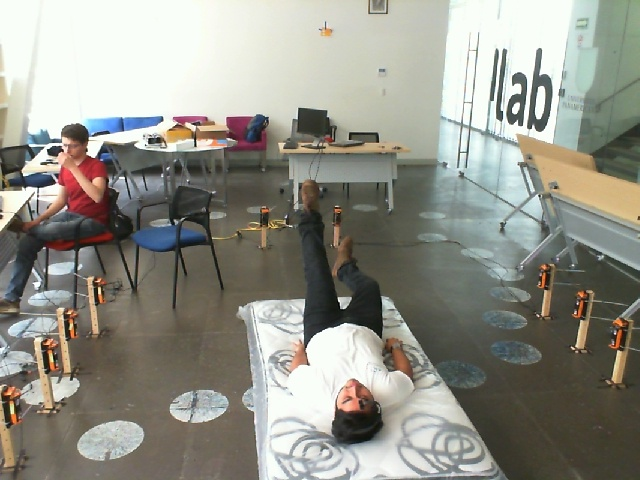fall: (272, 175, 426, 440)
not_fallen: (2, 117, 118, 326)
